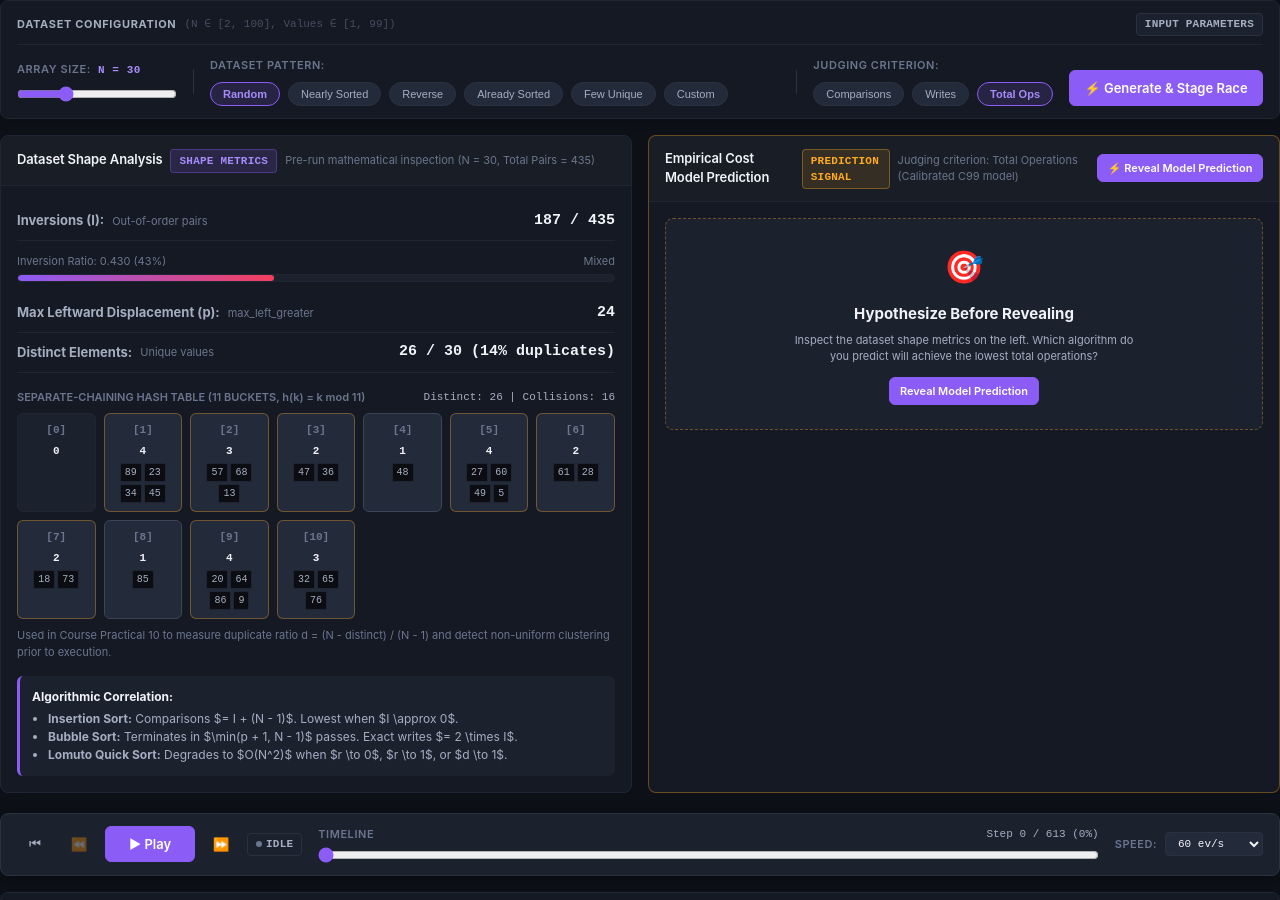
Test: SortingArena — Full 5-Lane Orchestration Component › supports step-forward, step-backward, play, pause, and restart
This screenshot has width=1280, height=900.
// Step forward by 1
Click the button named "step forward one event". click: (221, 844)
box: [203,826,239,862]
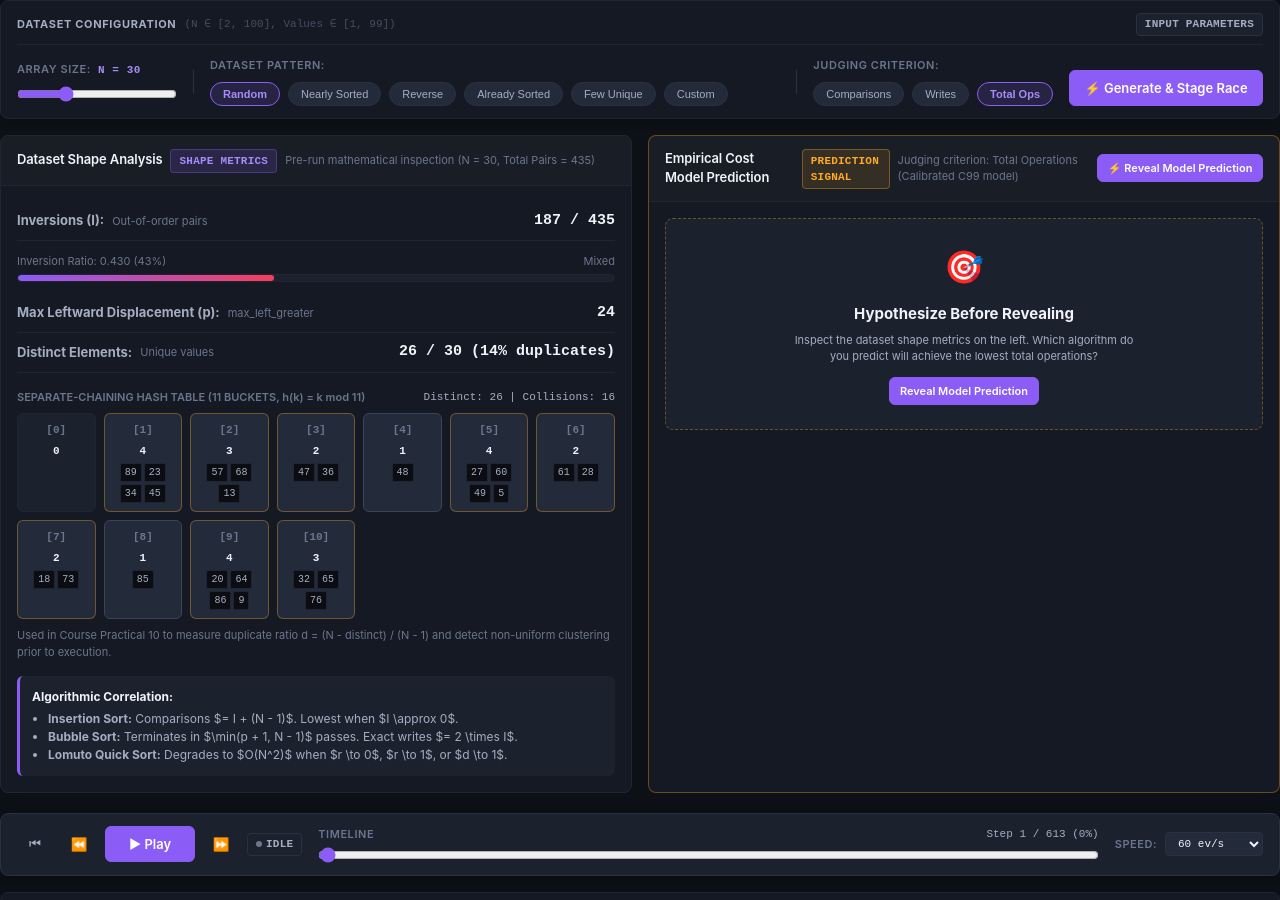
Expected: the text "Step 1 / 613 (0%)" is shown, [986,826,1099,843]
// Step forward again to step 2
Click the button named "step forward one event". click: (221, 844)
box: [203,826,239,862]
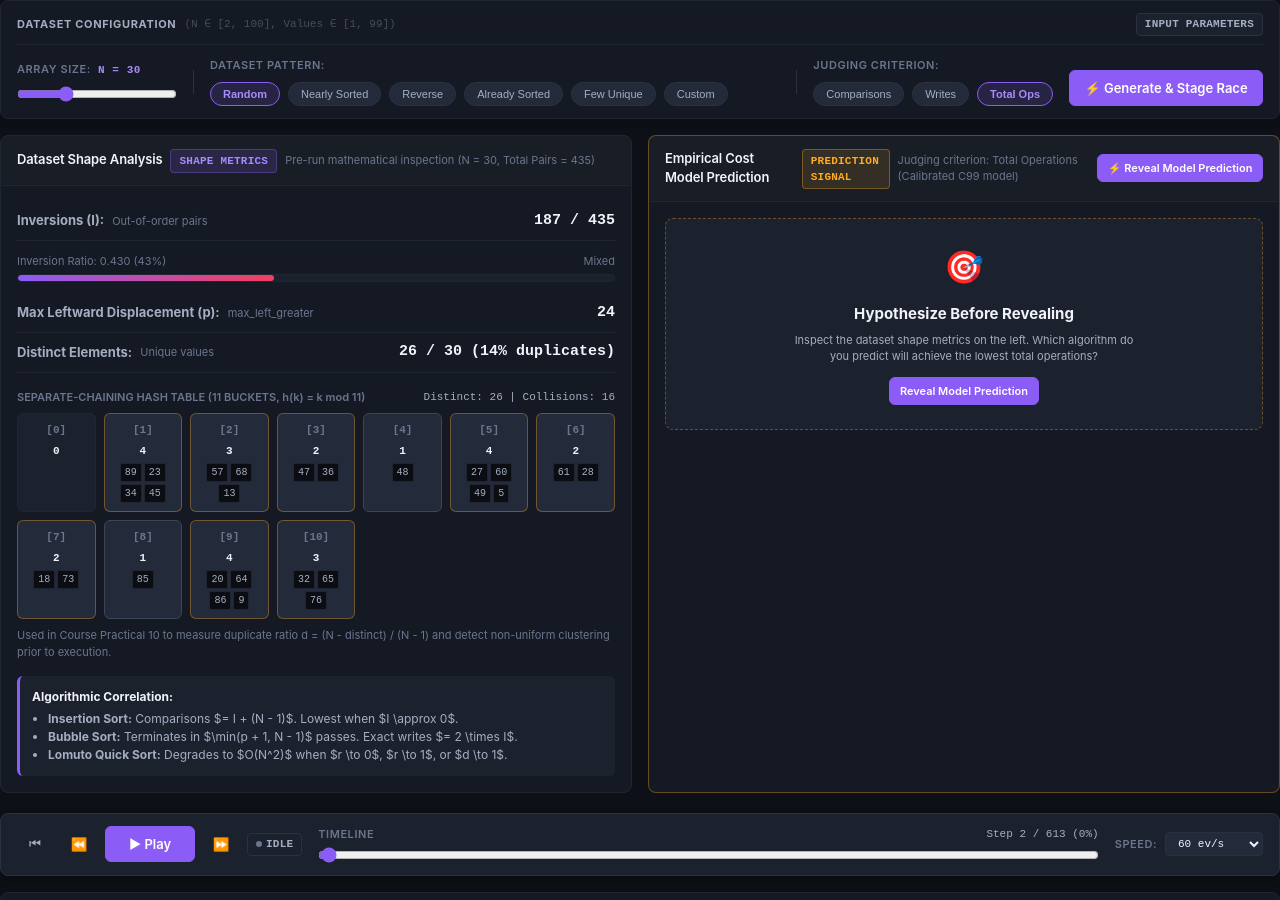
Expected: the text "Step 2 / 613 (0%)" is shown, [986,826,1099,843]
// Step backward to step 1
Click the button named "step backward one event". click: (79, 844)
box: [61,826,97,862]
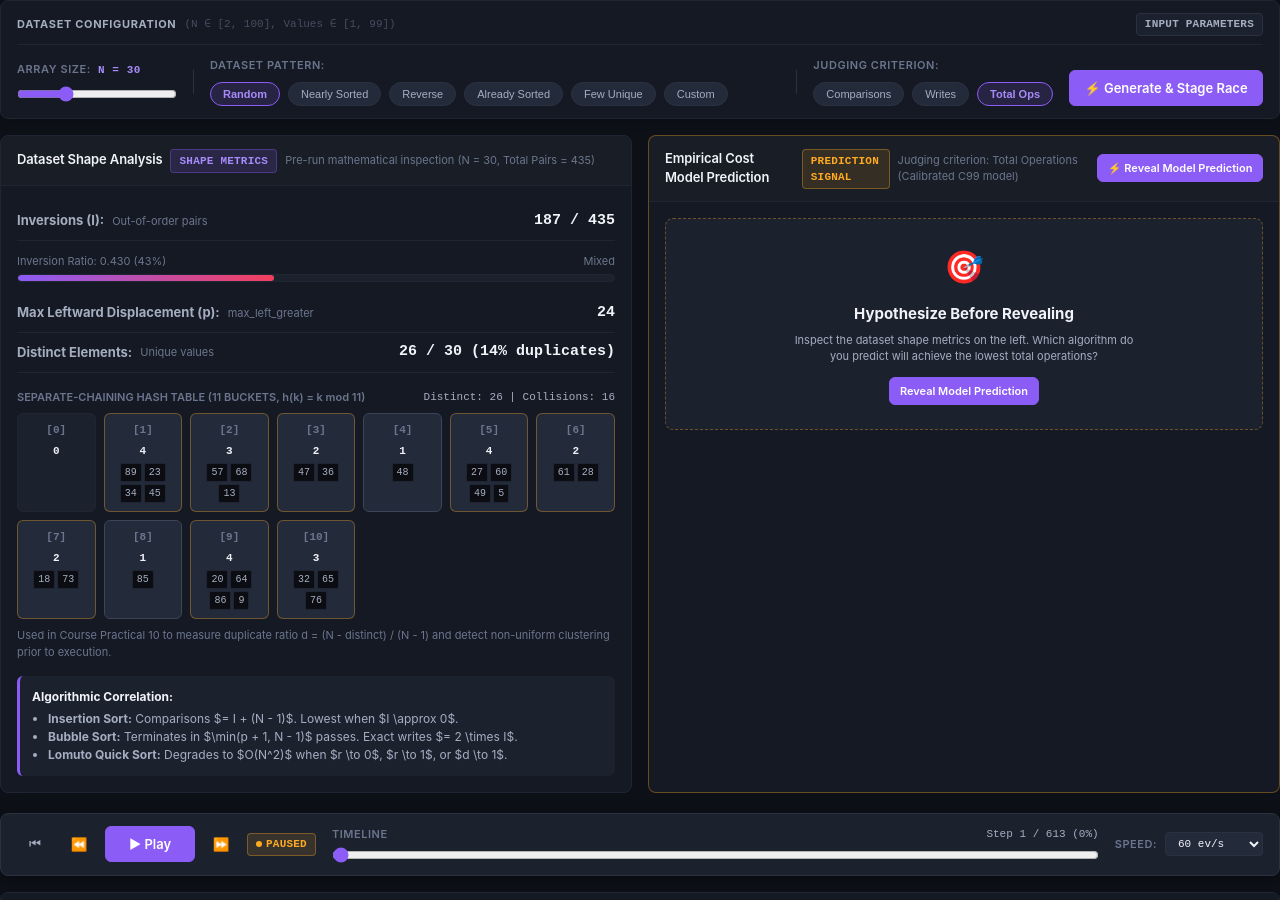
Expected: the text "Step 1 / 613 (0%)" is shown, [986,826,1099,843]
// Restart resets step to 0
Click the button named "restart playback to step 0". click: (35, 844)
box: [17,826,53,862]
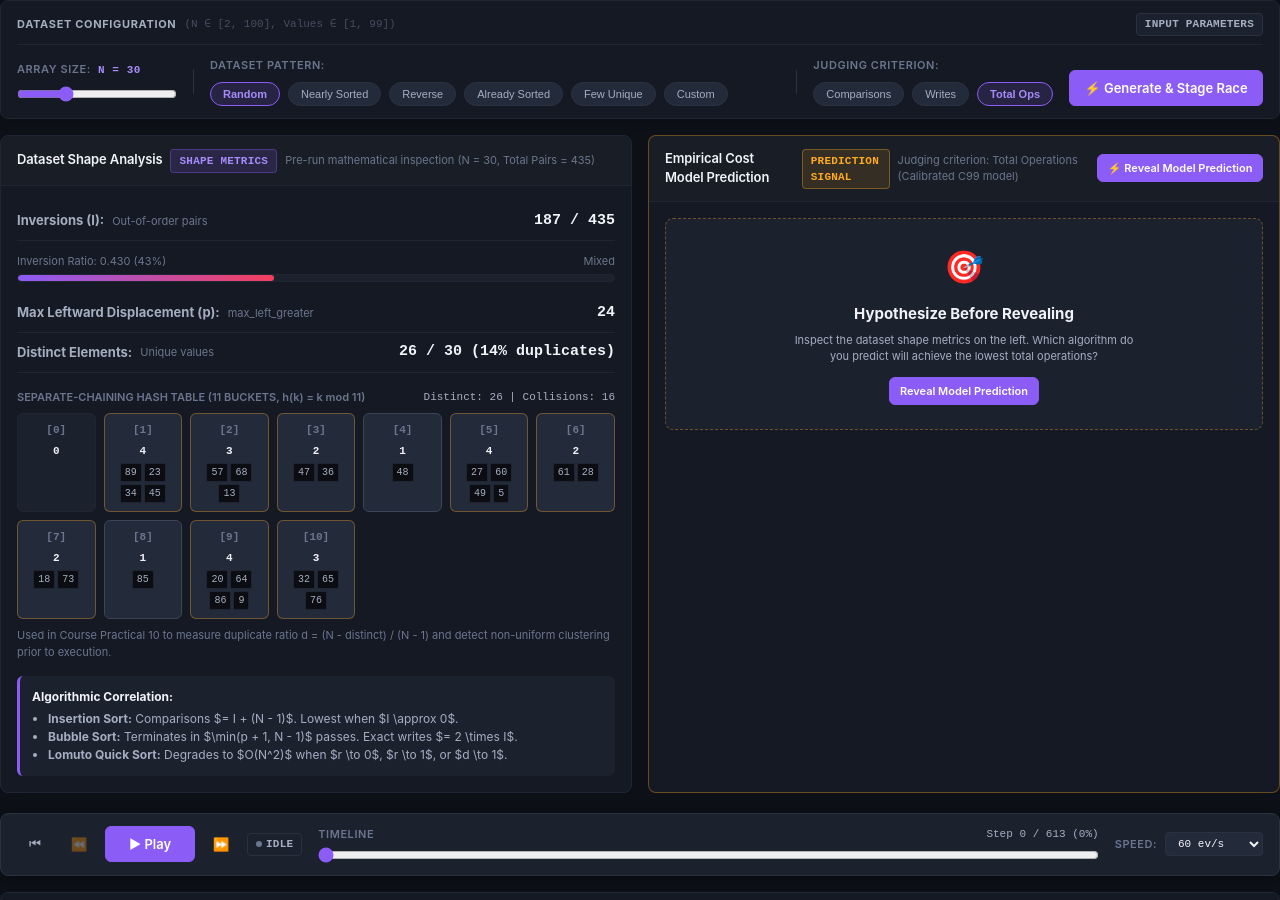
Expected: the text "Step 0 / 613 (0%)" is shown, [986,826,1099,843]
// Play starts playback
Click the button with aria-label "play race". click: (150, 844)
box: [105,826,195,862]
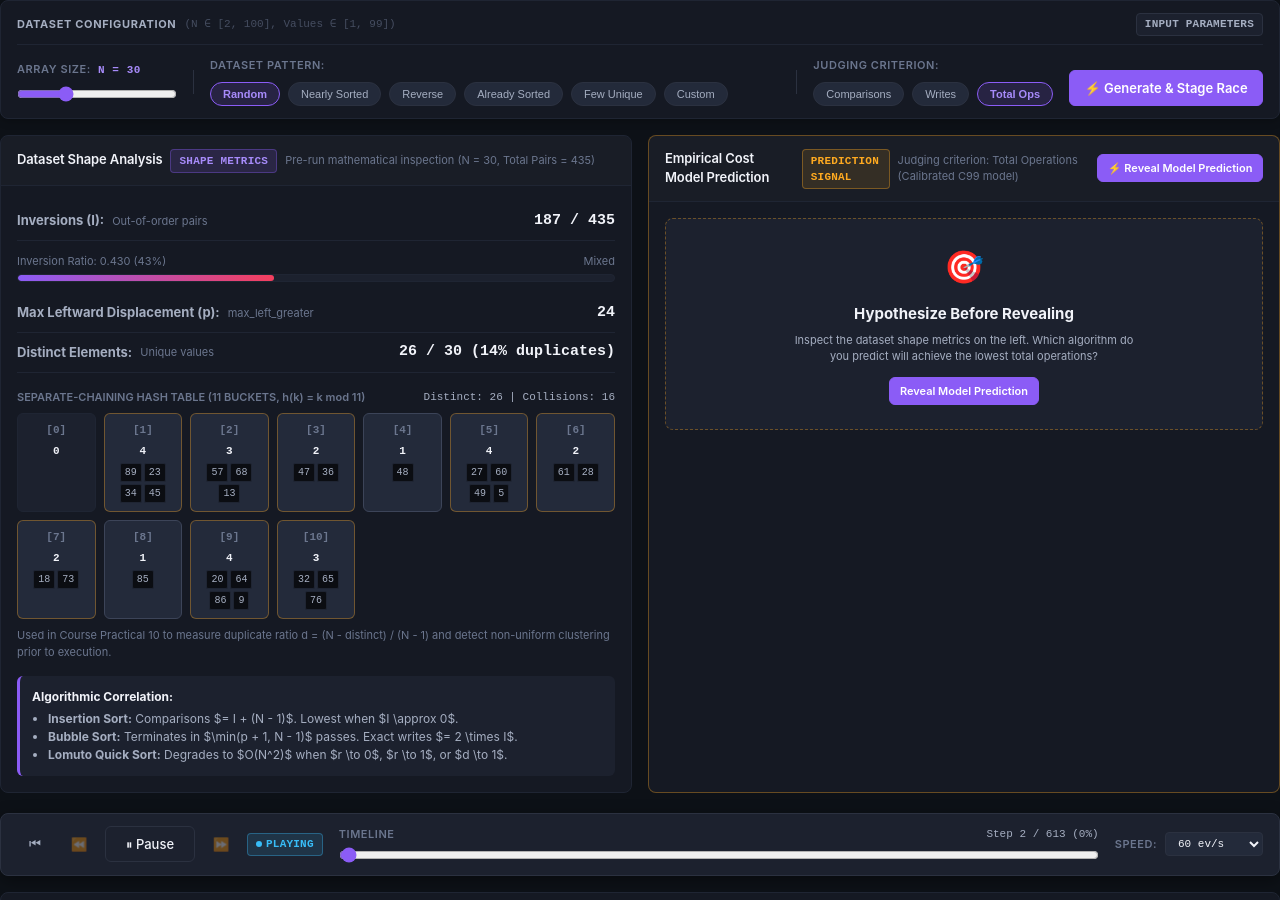
Expected: the button with aria-label "pause race" is shown
// Pause playback
Click the button with aria-label "pause race". click: (150, 844)
box: [105,826,195,862]
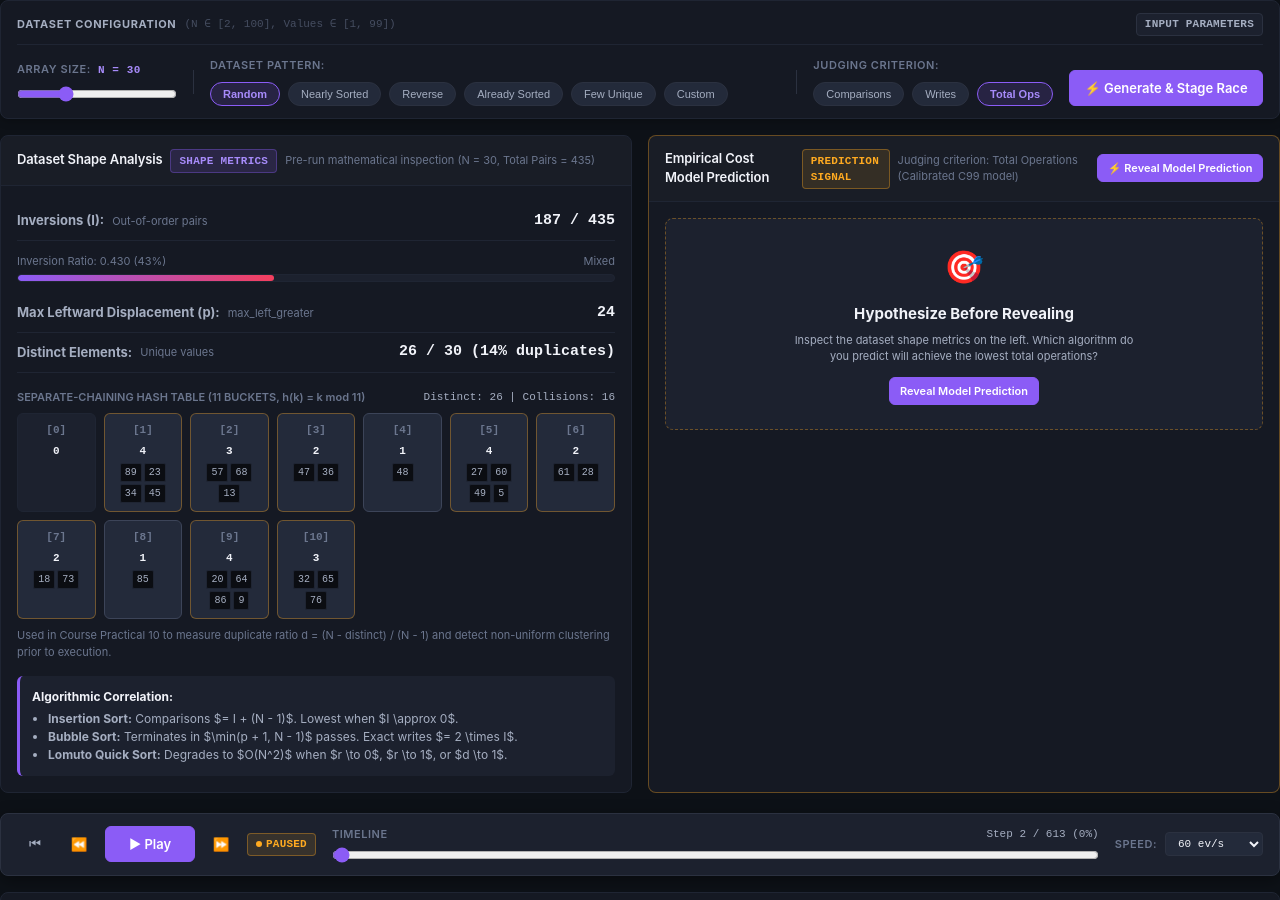
Expected: the button with aria-label "play race" is shown, [105,826,195,862]
